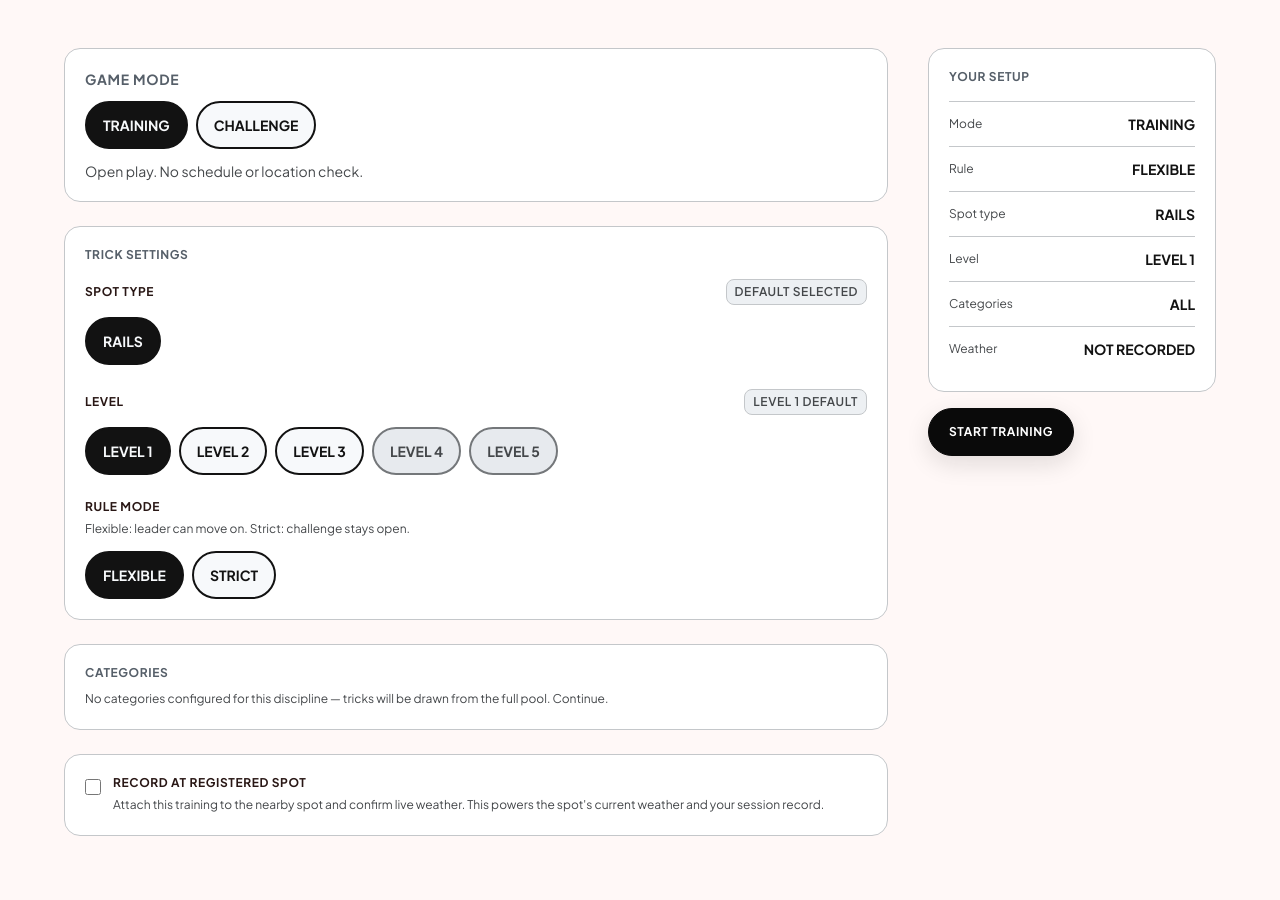
Test case: GameCreateForm › one-tap start › sends Challenge through setup rather than starting it
Click the radio button labelled "Challenge".
click(256, 125)  # box [196,101,316,149]
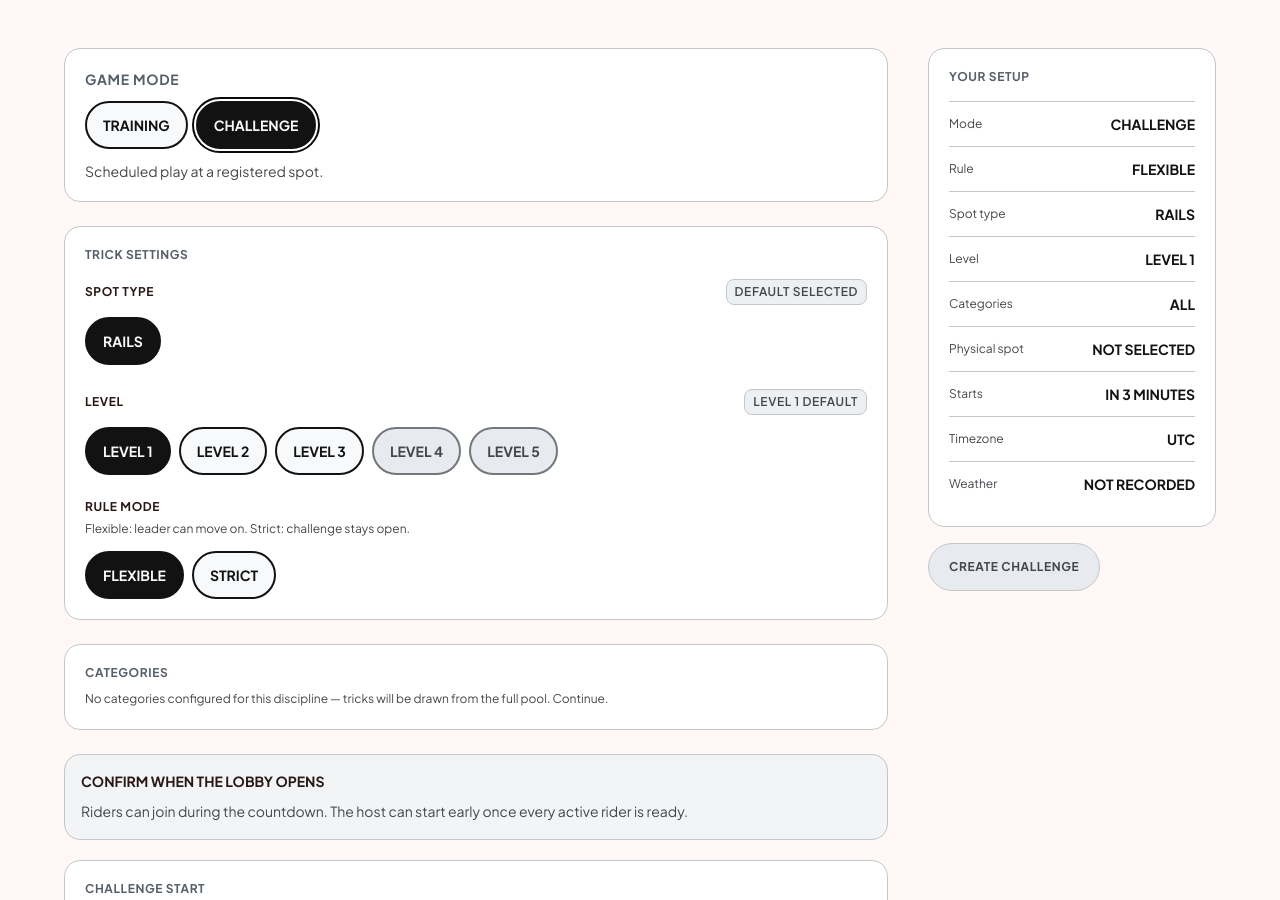
Expected: the button "Create Challenge" is shown, [928,543,1100,591]
